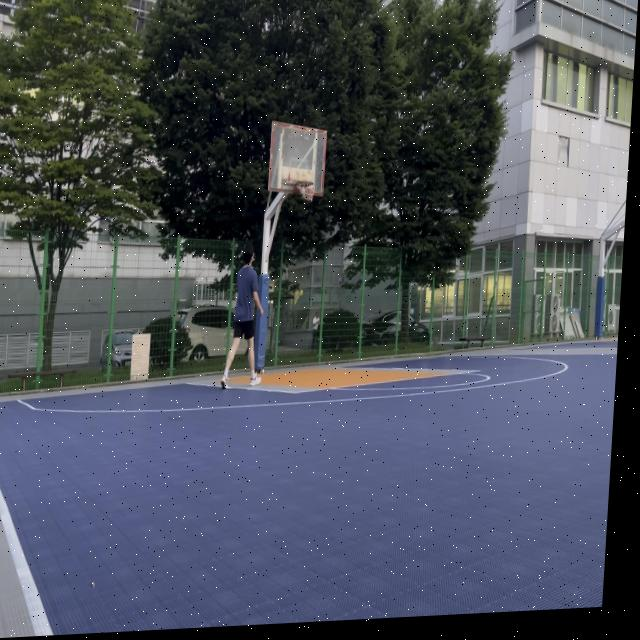basketball: (303, 187, 314, 205)
hoop: (295, 179, 314, 205), (295, 179, 314, 203)
